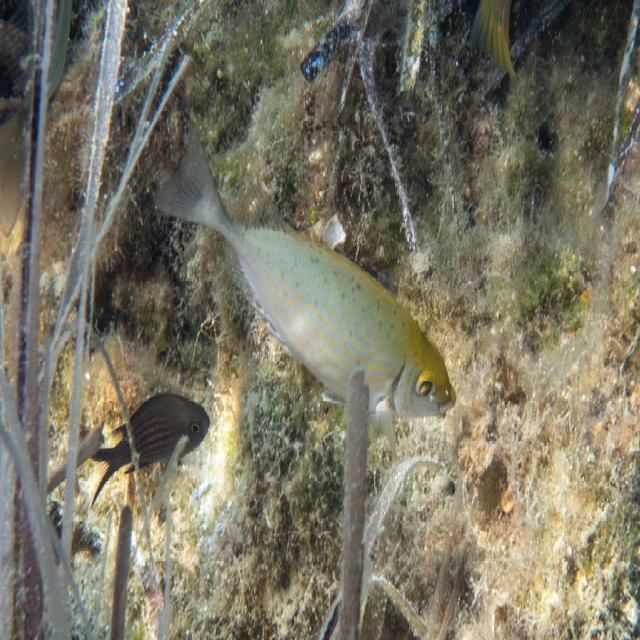Sokar Baligi: (150, 118, 467, 460)
